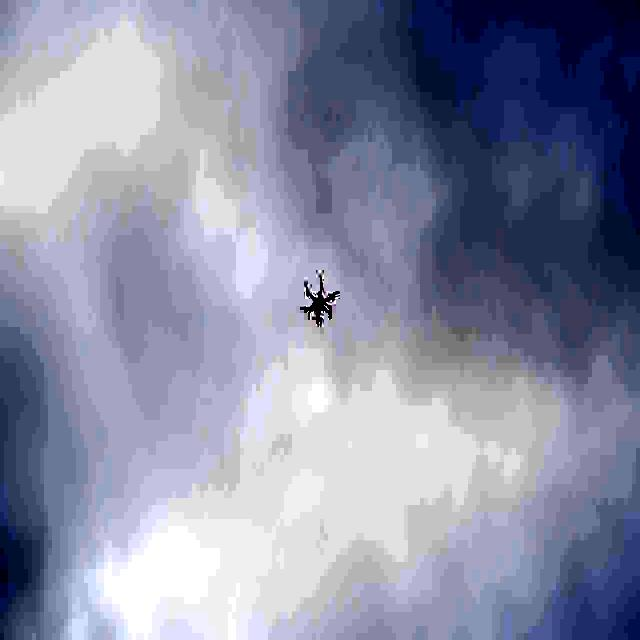drone: (300, 275, 341, 329)
